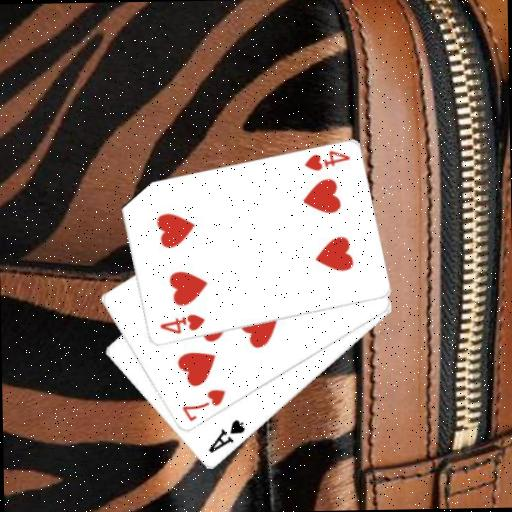4H: (156, 311, 206, 337), (302, 148, 352, 174)
7H: (178, 386, 228, 424)
AS: (205, 417, 248, 455)
